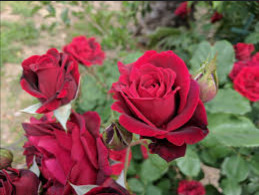RedRose: (112, 49, 208, 155)
